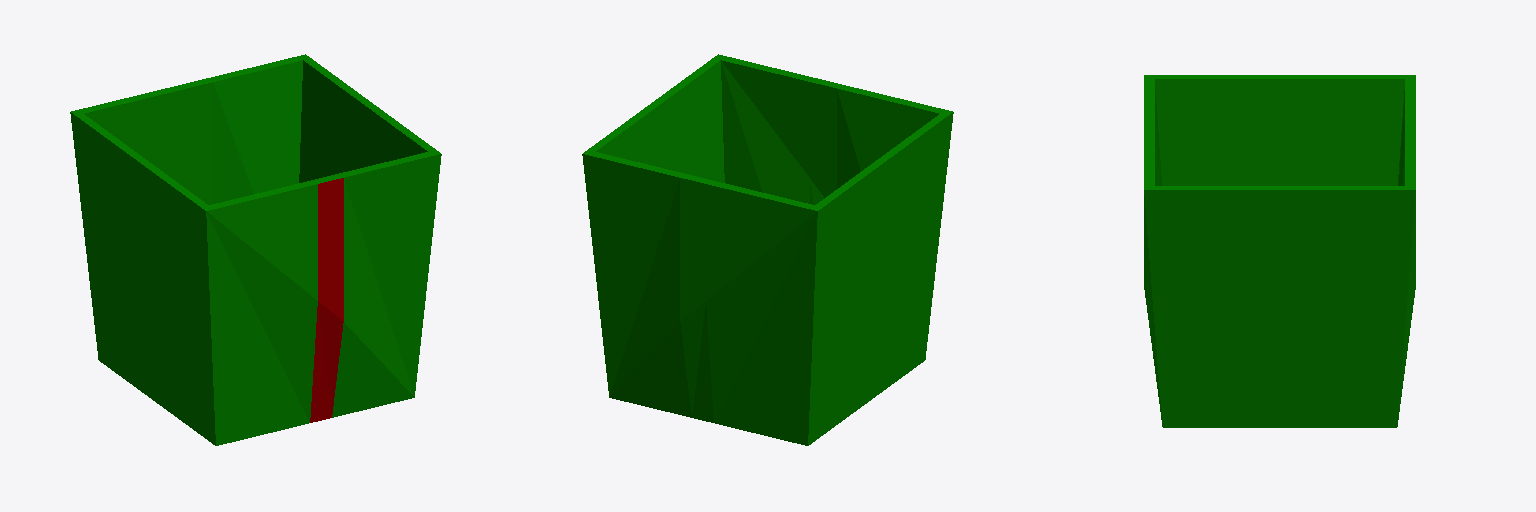
Rendered from boxbottom.obj.
3 views of the same model, side by side, from view 1: azimuth 30°, elevation 25°; view 2: azimuth 150°, elevation 25°; view 3: azimuth 270°, elevation 25° (orthographic).
Parts seen in each view (by area): view 1: Cube; view 2: Cube; view 3: Cube.
Boxes of the visible parts, <box> form: Cube: <box>70,54,441,445</box>; Cube: <box>582,54,953,445</box>; Cube: <box>1144,75,1415,427</box>.
Bounding box in the file's own units: 2 × 2 × 2.